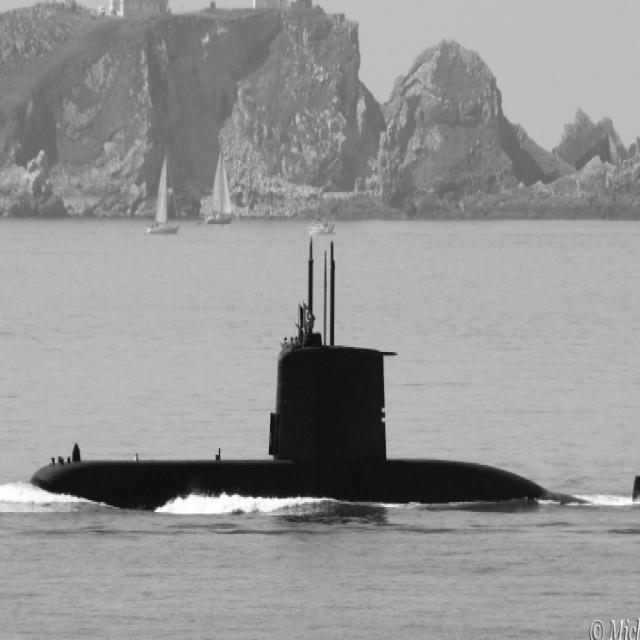submarine: (33, 338, 640, 503)
